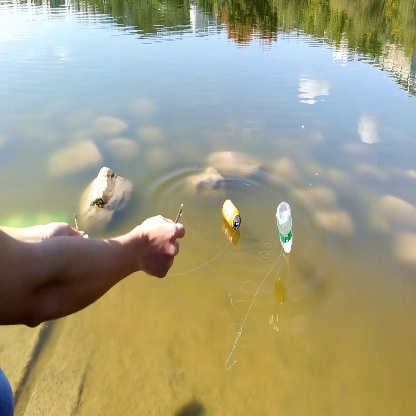bottle: (271, 196, 299, 257)
